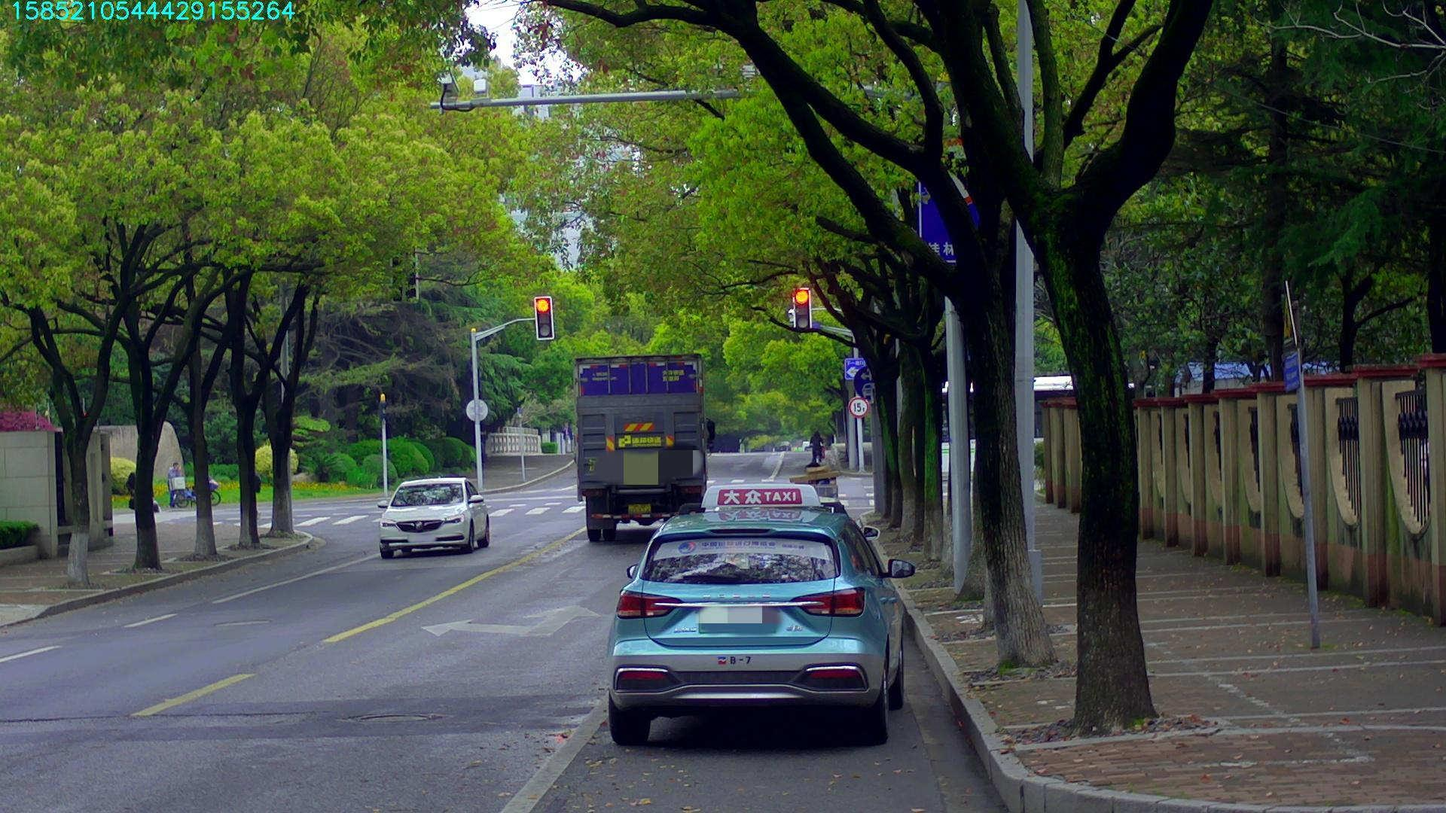red: (534, 296, 552, 339), (793, 288, 810, 328)
